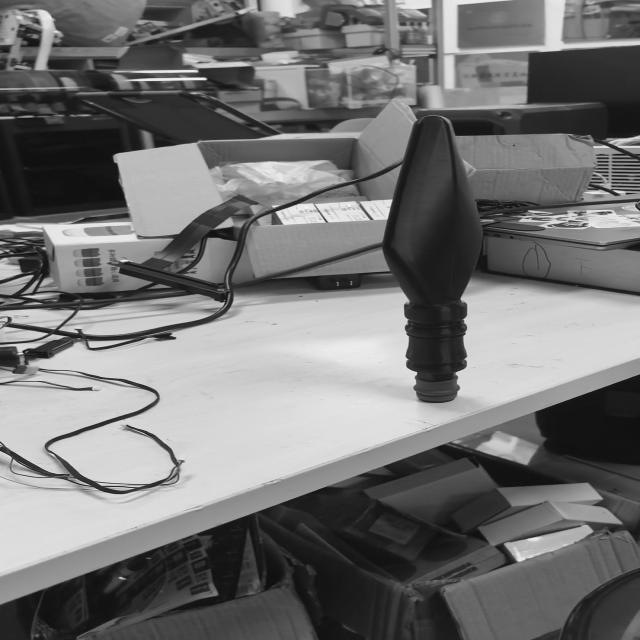base: (403, 376, 467, 406)
